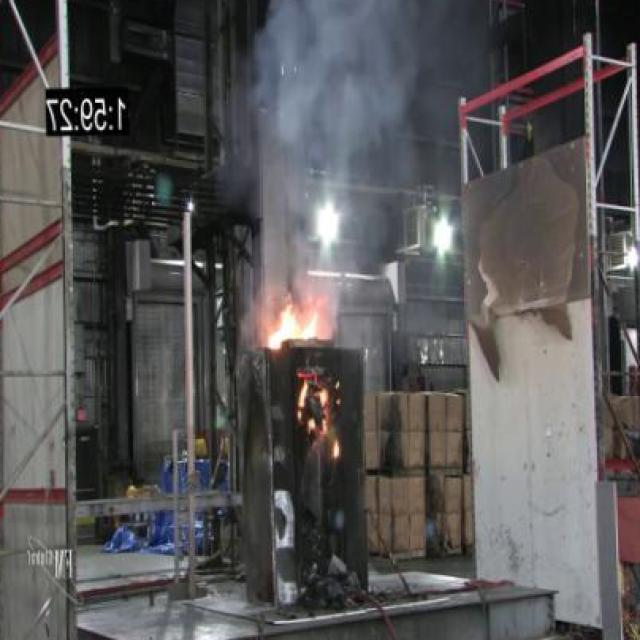fire: (233, 0, 466, 223)
smoke: (262, 292, 329, 356)
